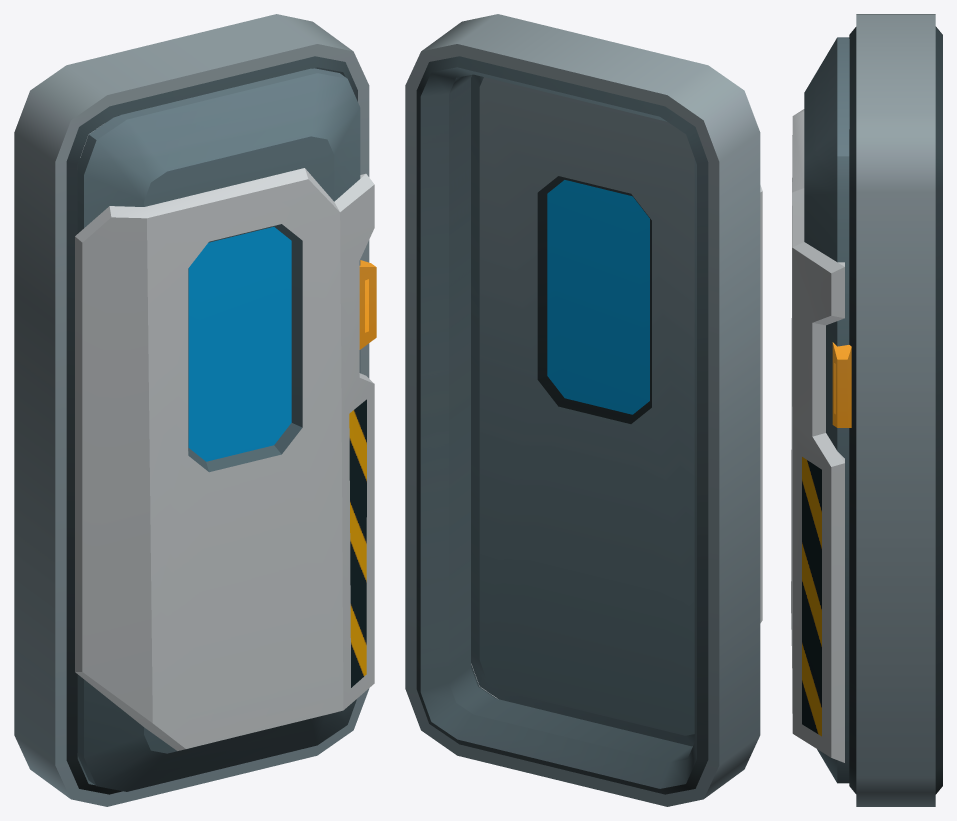
Rendered from doorway_frame_open_1x1.glb.
3 renders of one model, left to right at view 1: azimuth 30°, elevation 25°; view 2: azimuth 150°, elevation 25°; view 3: azimuth 270°, elevation 25°, orthographic. The views are drawn at different scales.
Visible parts, largest first — view 1: Door_panel_002, Door_001; view 2: Door_panel_002, Door_001; view 3: Door_001, Door_panel_002.
Part boxes in pixels (x1,y1,x2,y2): Door_panel_002: (75, 68, 376, 791); Door_001: (14, 14, 369, 806); Door_panel_002: (471, 74, 762, 746); Door_001: (405, 14, 760, 806); Door_001: (849, 14, 942, 806); Door_panel_002: (791, 37, 851, 783).
Bounding box in the file's own units: 1.27 × 2.76 × 0.5487.
Materials: 2 (2 with a texture image).
